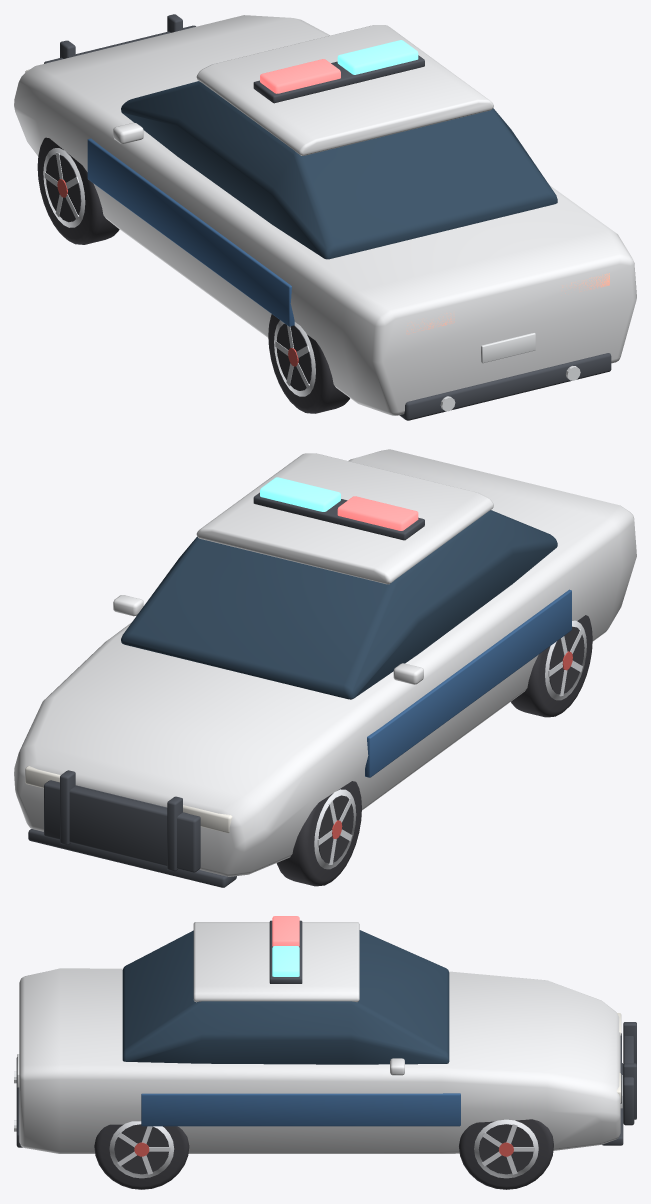
File: Car_PoliciaMaldonado.fbx
3 views of the same model, one above another, from view 1: azimuth 30°, elevation 25°; view 2: azimuth 150°, elevation 25°; view 3: azimuth 270°, elevation 25° (orthographic). The views are drawn at different scales.
Visible parts, largest first — view 1: Car_Body, Wheel_FL, Wheel_RL; view 2: Car_Body, Wheel_FL, Wheel_RL; view 3: Car_Body, Wheel_FR, Wheel_RR.
Boxes of the visible parts, bbox=[...] form: Car_Body: bbox=[14, 14, 636, 420]; Wheel_FL: bbox=[37, 137, 119, 244]; Wheel_RL: bbox=[268, 314, 349, 413]; Car_Body: bbox=[14, 449, 636, 887]; Wheel_FL: bbox=[276, 781, 361, 886]; Wheel_RL: bbox=[511, 615, 592, 717]; Car_Body: bbox=[14, 916, 636, 1153]; Wheel_FR: bbox=[459, 1119, 553, 1189]; Wheel_RR: bbox=[94, 1121, 189, 1189].
Bounding box in the file's own units: 2.04 × 1.6 × 4.58.
